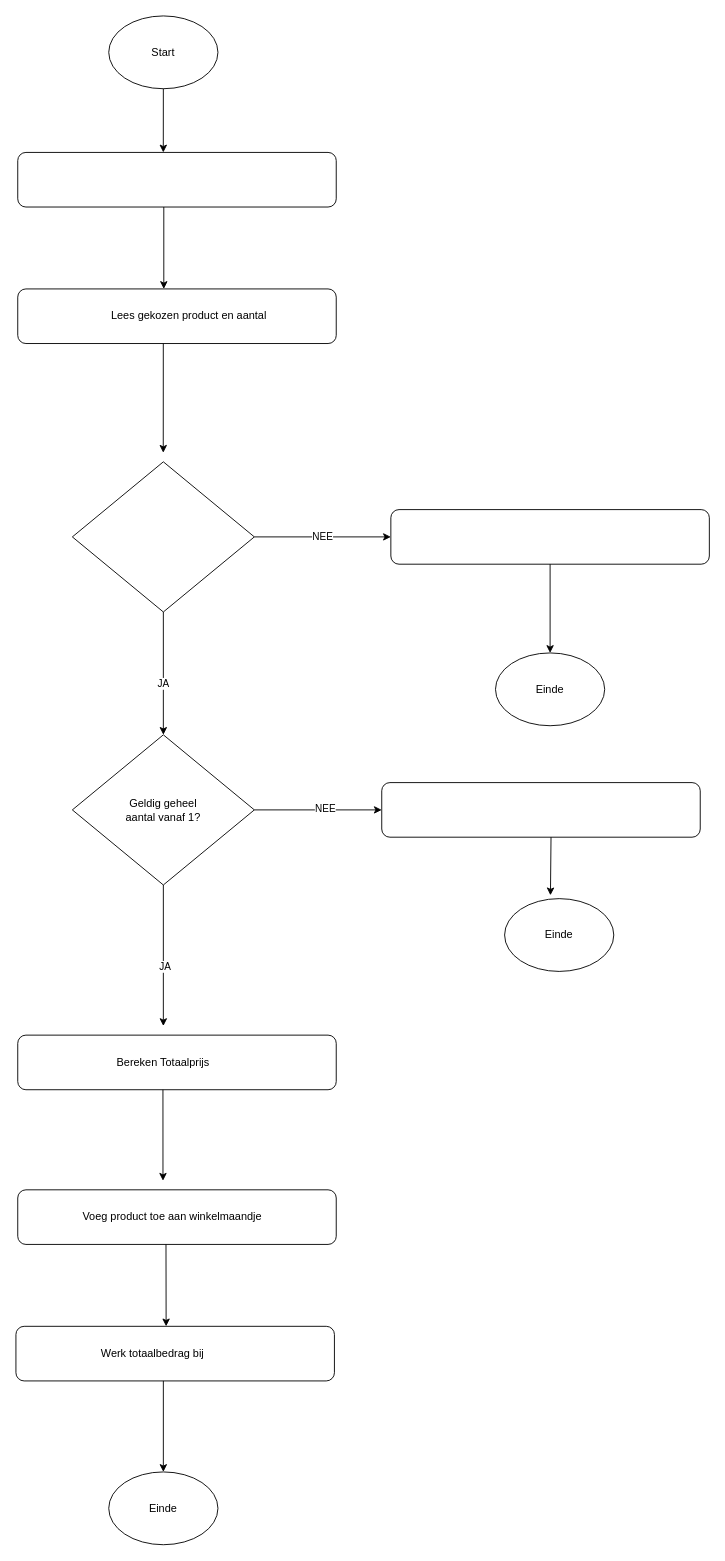
Some shapes in this 725 by 1561 pixel diagram are drawn without their labels. Each missing label, with the centre of its shape:
Click op Toevoegen aan Bestelling: the point at 176,179
Melding: Kies een geldig heel aantal vanaf 1: the point at 540,809
Melding: Kies eerst een product: the point at 549,536
Product gekozen?: the point at 162,536
